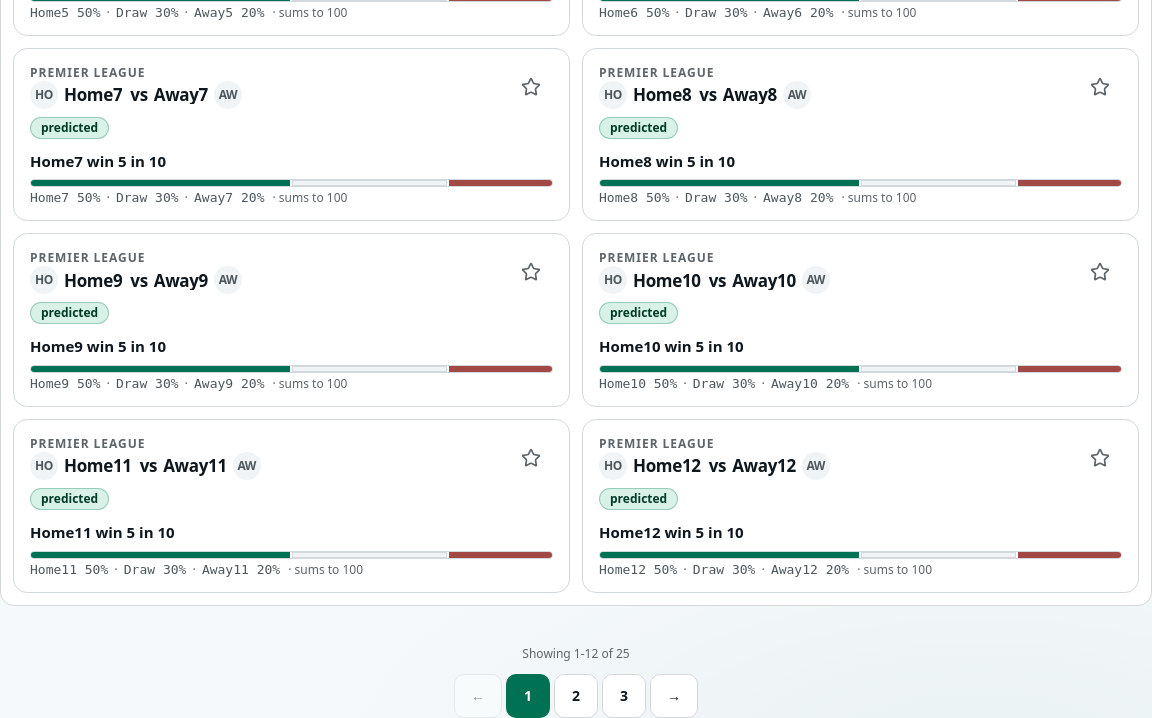
Scenario: FeedBoard › paginates with numbered pages and announces range
The image size is (1152, 718).
(page scrolled)
Check: the text "Showing 1-12 of 25" is shown, box top-left (522, 646), bottom-right (630, 662)
Check: the heading "Home25" is not shown
Click the button named "Page 2 of 3" at (576, 696), box top-left (554, 674), bottom-right (598, 717)
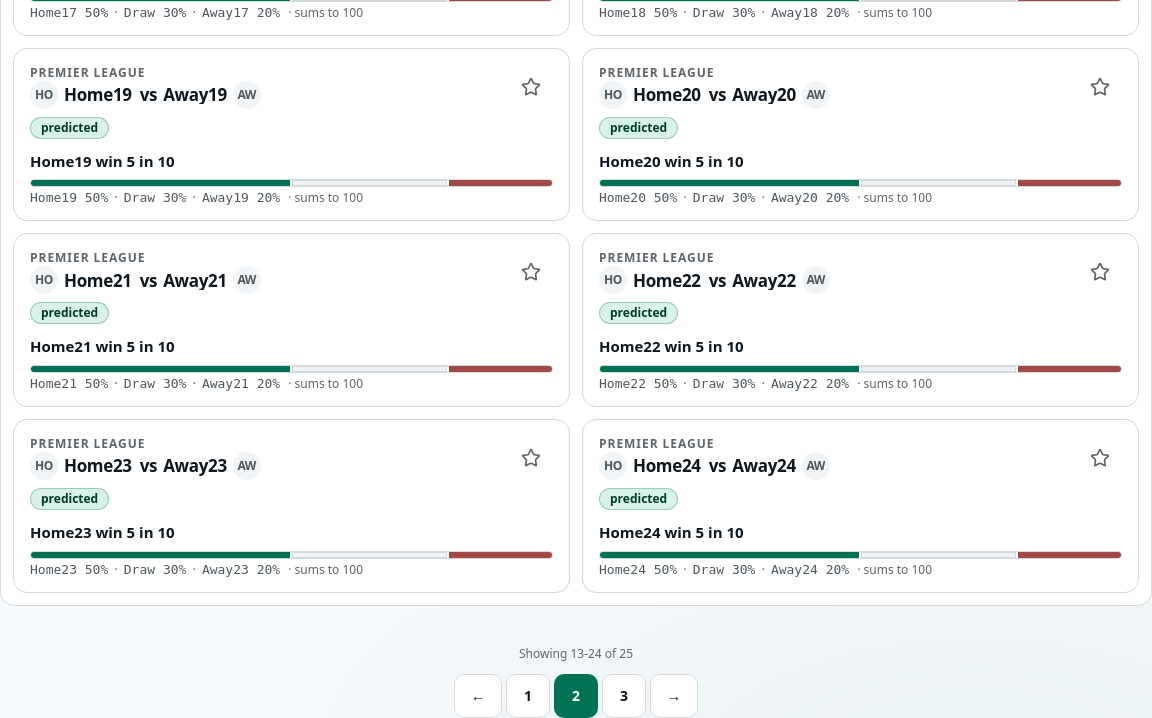
Check: the text "Showing 13-24 of 25" is shown, box top-left (519, 646), bottom-right (633, 662)
Click the button named "Page 3 of 3" at (624, 696), box top-left (602, 674), bottom-right (646, 717)
(page scrolled)
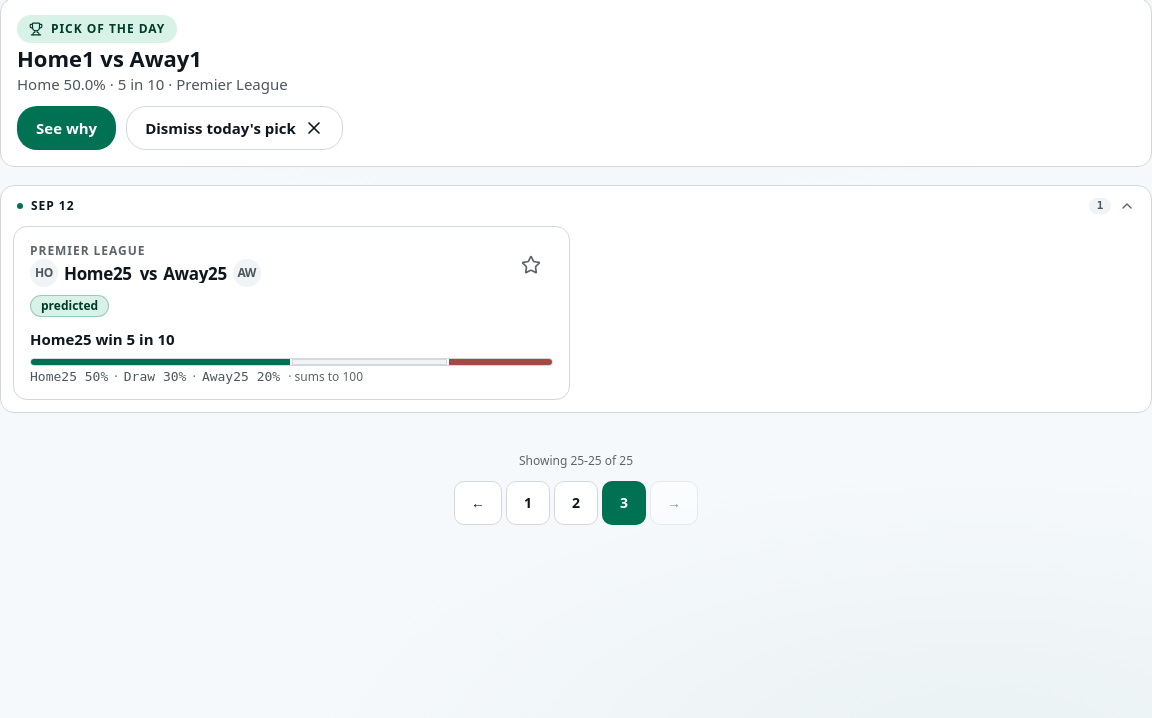
Check: the text "Showing 25-25 of 25" is shown, box top-left (519, 453), bottom-right (633, 469)
Check: the heading "HO Home25 vs Away25 AW" is shown, box top-left (30, 259), bottom-right (261, 287)
